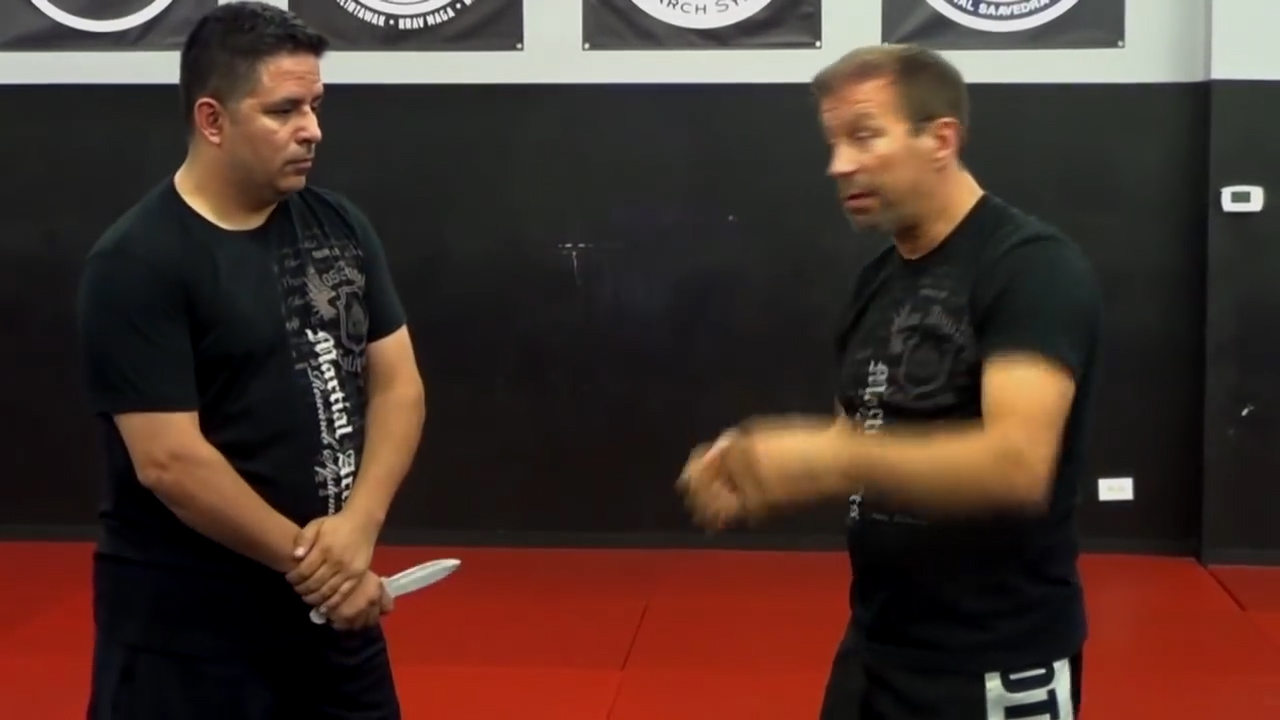knife: (301, 546, 472, 635)
